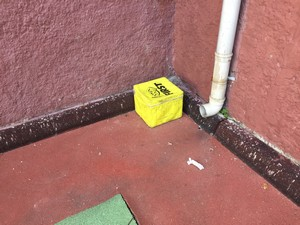cube: (134, 78, 184, 126)
